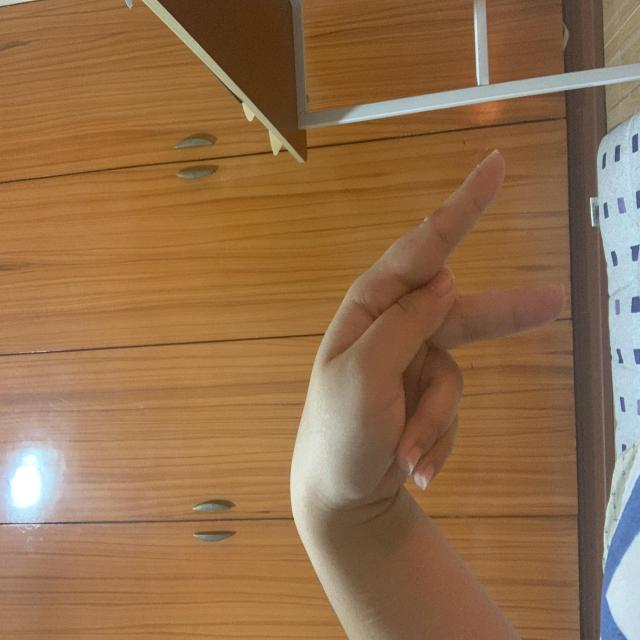P: (146, 288, 539, 568)
